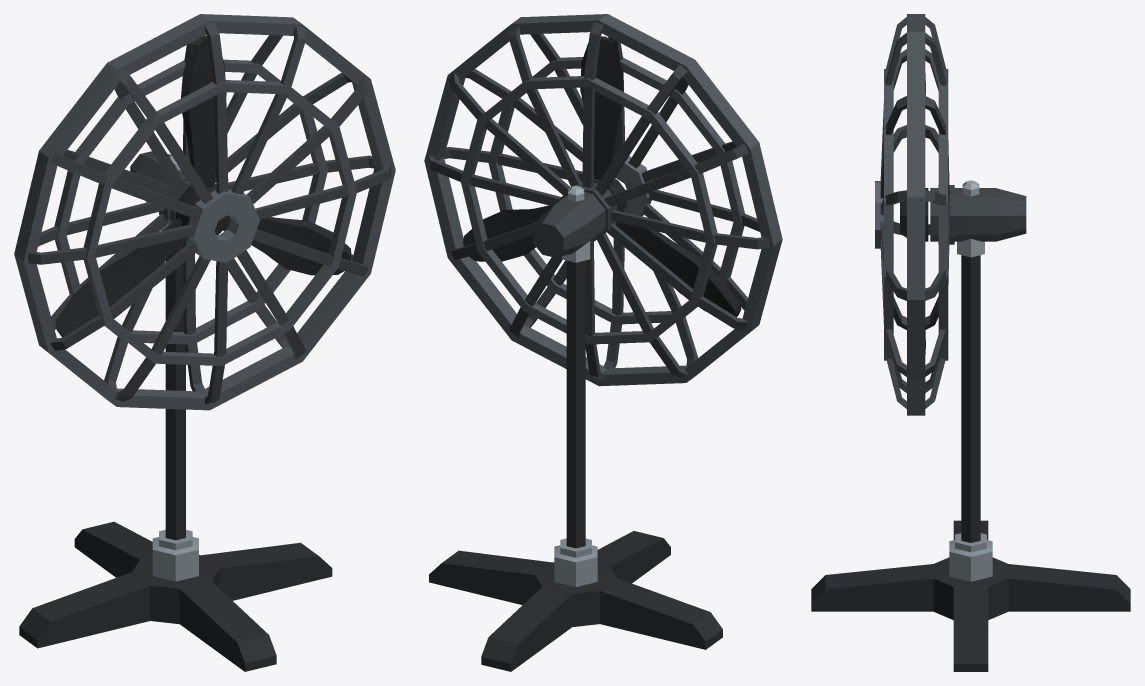
The model's file is SM_Prop_Fan_01_Preset.fbx.
3 renders of one model, left to right at view 1: azimuth 30°, elevation 25°; view 2: azimuth 150°, elevation 25°; view 3: azimuth 270°, elevation 25°, orthographic. The views are drawn at different scales.
Parts seen in each view (by area): view 1: SM_Prop_Fan_01_Preset; view 2: SM_Prop_Fan_01_Preset; view 3: SM_Prop_Fan_01_Preset.
Boxes of the visible parts, x1,y1,x2,y2 form: SM_Prop_Fan_01_Preset: [14, 14, 395, 671]; SM_Prop_Fan_01_Preset: [424, 14, 782, 671]; SM_Prop_Fan_01_Preset: [811, 14, 1130, 671].
Bounding box in the file's own units: 130 × 204 × 103.
